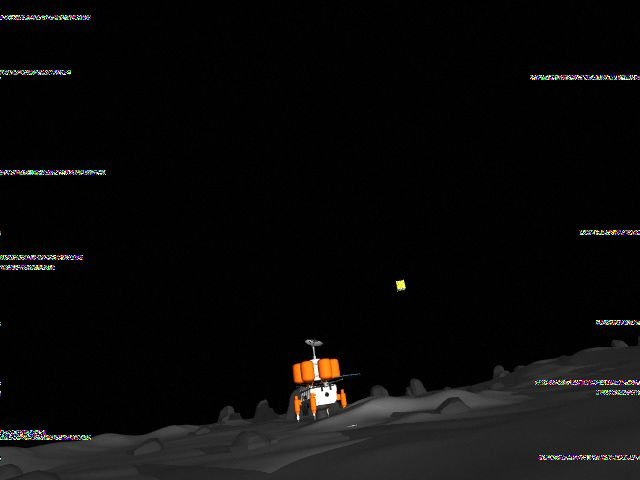homebase: (271, 337, 364, 425)
